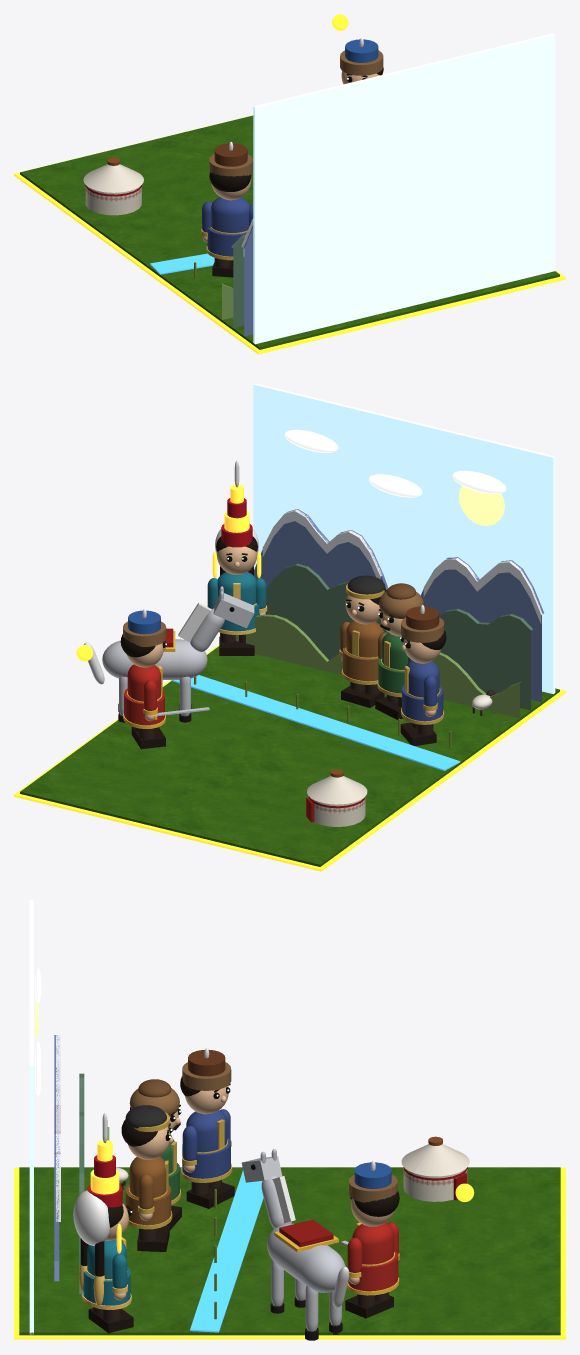
3 renders of one model, top to bottom at view 1: azimuth 30°, elevation 25°; view 2: azimuth 150°, elevation 25°; view 3: azimuth 270°, elevation 25°, orthographic. The views are drawn at different scales.
Parts seen in each view (by area): view 1: Аспан, Жер, Жиек, Borik (×2), Күмбез, Torso, Rim (×2), Кереге, Орта жота, Алыс жота, Өзен, Skirt (+1 smaller); view 2: Жер, Аспан, Орта жота, Алыс жота, Torso (×6), Жақын төбе, Өзен, Жиек, Қар, Skirt (×4), Бұлт (×3), Face (×2) (+8 smaller); view 3: Жер, Torso (×5), Жиек, Өзен, Skirt (×4), Аспан, Borik (×2), Күмбез, Rim (×2), Veil, Face (×2), Кереге (+12 smaller).
Part boxes in pixels (x1,y1,x2,y2): Аспан: (253,33,555,344); Жер: (20,115,559,349); Жиек: (14,115,565,354); Borik (×2): (214,39,378,166); Күмбез: (83,164,143,192); Torso: (211,197,250,232); Rim (×2): (209,50,383,176); Кереге: (85,186,141,215); Орта жота: (231,234,246,327); Алыс жота: (243,225,253,336); Өзен: (150,253,214,274); Skirt: (207,228,246,256); Жер: (20,646,559,866); Аспан: (253,383,555,694); Орта жота: (265,563,532,710); Алыс жота: (254,509,543,702); Torso (×6): (102,572,439,701); Жақын төбе: (220,614,521,718); Өзен: (171,675,460,770); Жиек: (14,645,565,871); Қар: (262,509,542,624); Skirt (×4): (124,648,443,725); Бұлт (×3): (284,429,506,497); Face (×2): (216,546,380,624); Жер: (19,1167,560,1335); Torso (×5): (87,1110,393,1292); Жиек: (14,1167,565,1339); Өзен: (190,1170,263,1332); Skirt (×4): (83,1138,398,1305); Аспан: (29,900,33,1334); Borik (×2): (188,1050,391,1188); Күмбез: (401,1144,469,1176); Rim (×2): (182,1062,397,1202); Veil: (73,1190,109,1245); Face (×2): (128,1086,228,1159); Кереге: (403,1168,467,1201).
Bounding box in the file's own units: 1.05 × 0.7206 × 1.33.
Materials: 47 (2 with a texture image).
